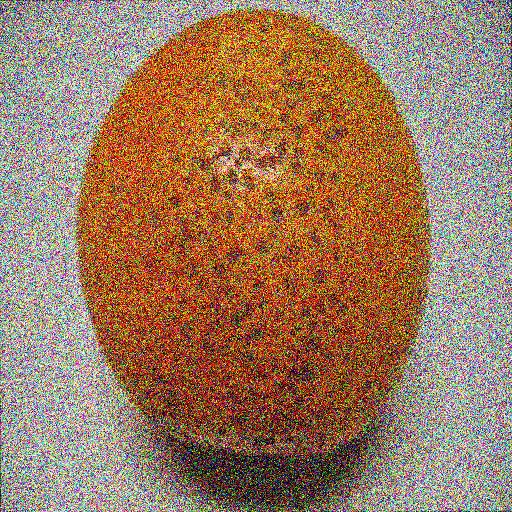fruit: (386, 125, 472, 425)
